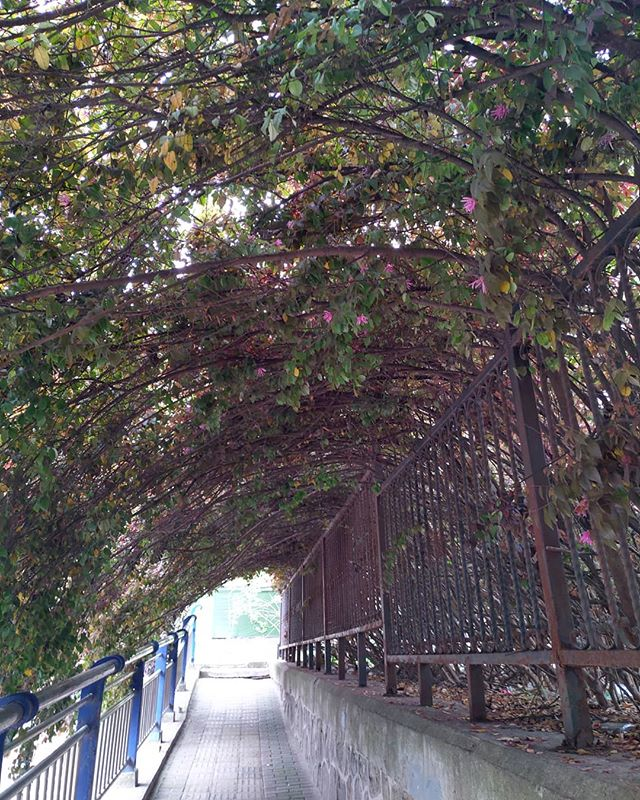vegetation: (1, 1, 640, 638)
